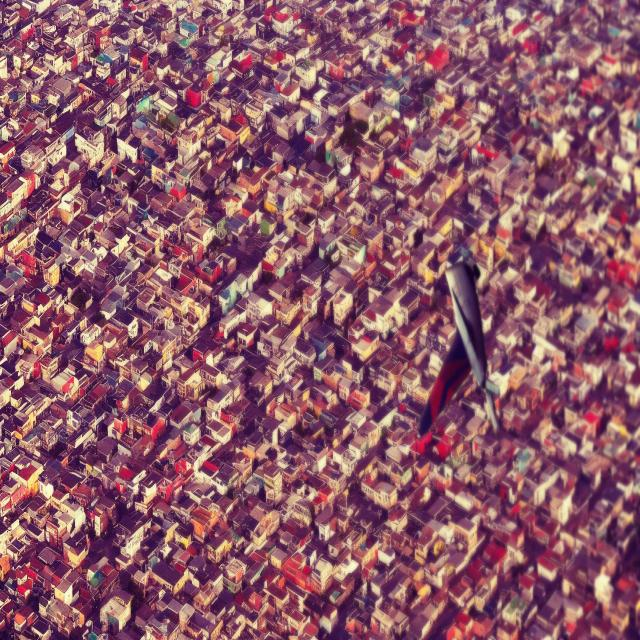airplane: (416, 250, 501, 440)
